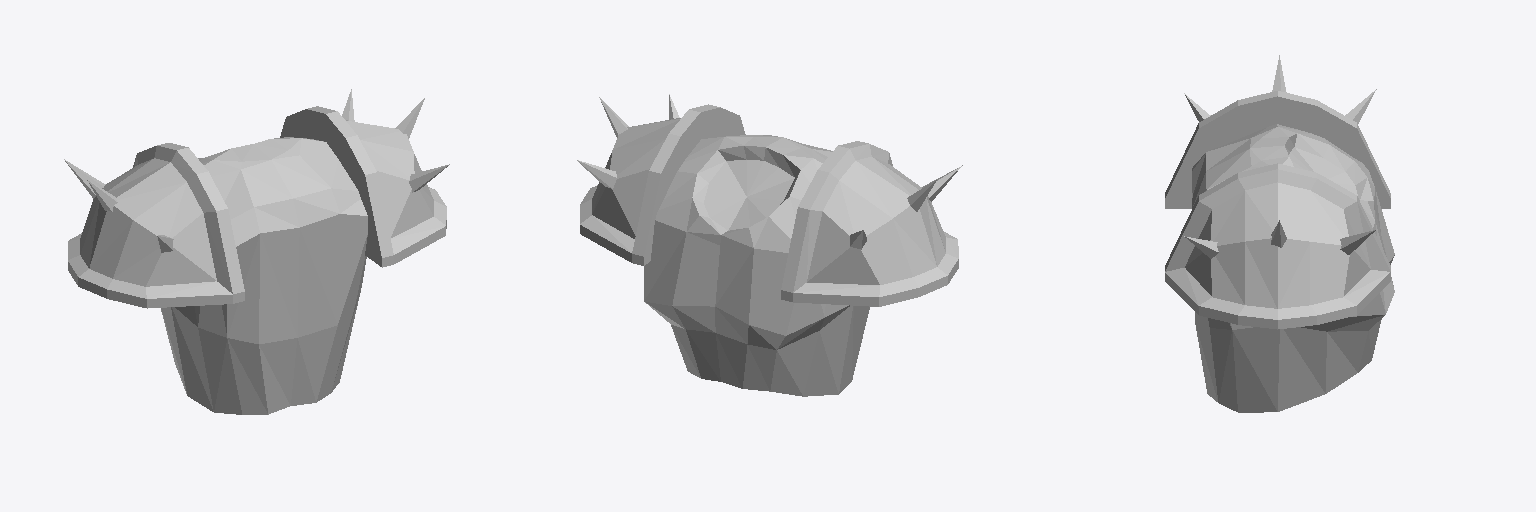
File: tris.obj
The picture shows the model from 3 angles: view 1: azimuth 30°, elevation 25°; view 2: azimuth 150°, elevation 25°; view 3: azimuth 270°, elevation 25°; orthographic projection.
Parts seen in each view (by area): view 1: mesh; view 2: mesh; view 3: mesh.
Part boxes in pixels (x1,y1,x2,y2): mesh: (64,89,449,414); mesh: (577,94,962,396); mesh: (1165,55,1394,412).
Size of the model in its own units: 40.47 by 27.28 by 22.56.